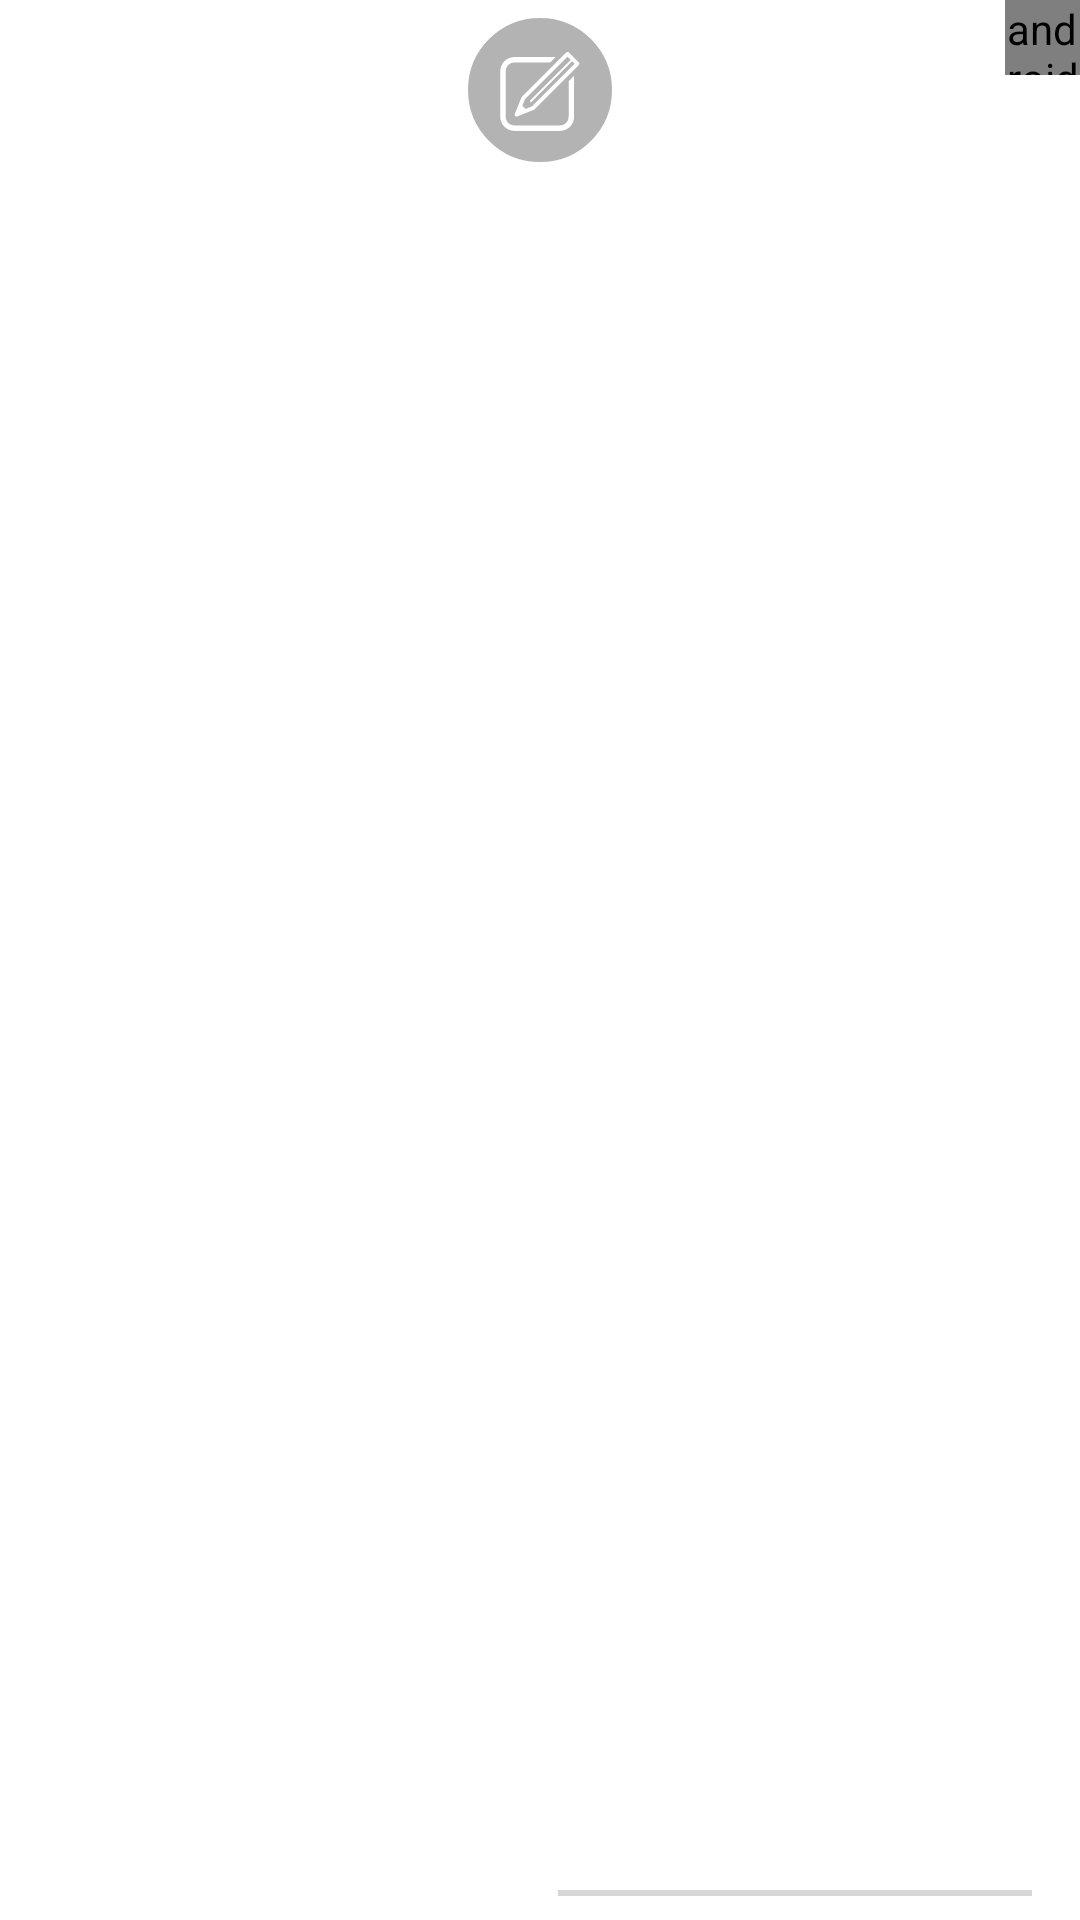

Icon bounding boxes for this 1080×1920 phone screenshot, format (x1, y1, x2, y2):
edit: (468, 18, 612, 162)
